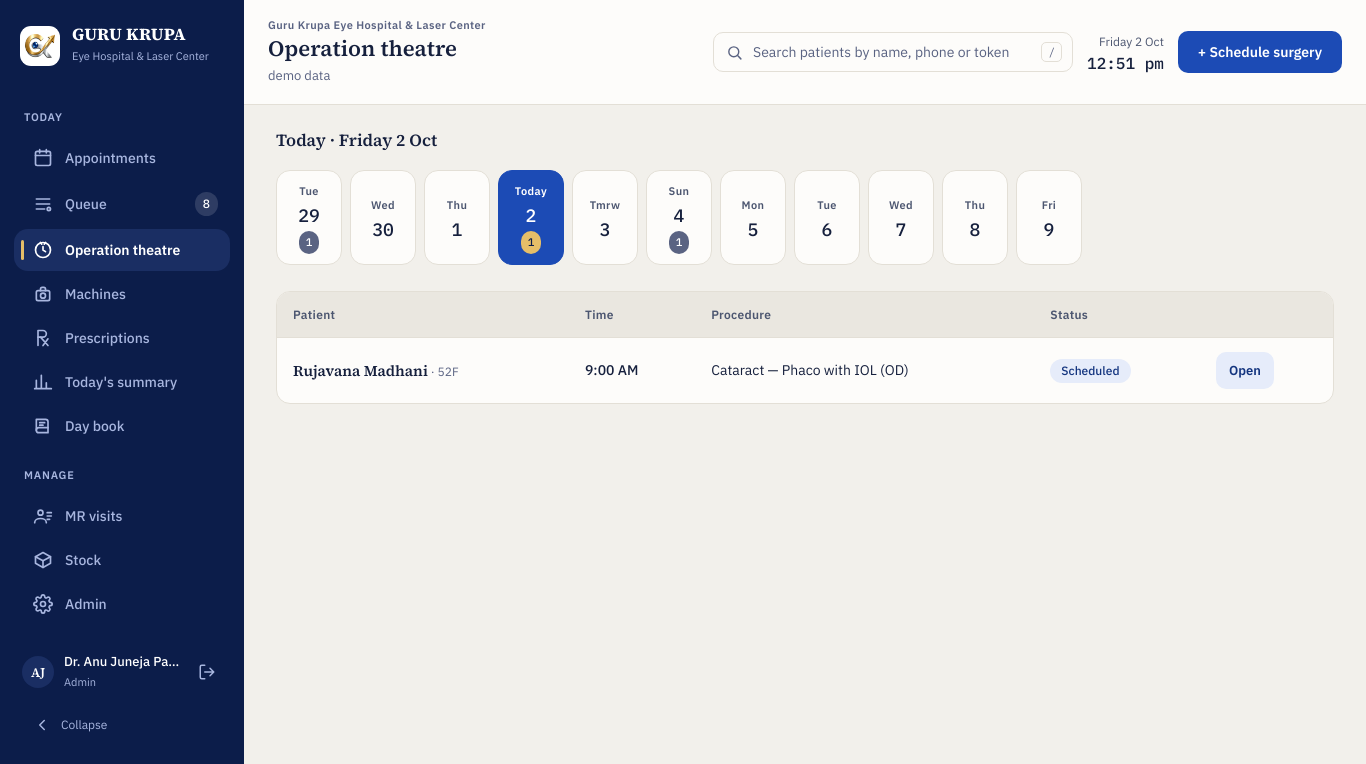
OT screen (F6) › shows today's cases with slot and status, and per-day counts on the strip
Expected: the row with test id "ot-row-1" shows "Rujavana Madhani", [293,360,428,380]
Expected: the row with test id "ot-row-1" shows "9:00 AM", [585,361,638,379]
What coordinates should you click on to do the following:
click the tab "Sun 4 1"
I would click on:
 (679, 218)
Its box is [646,170,712,265].
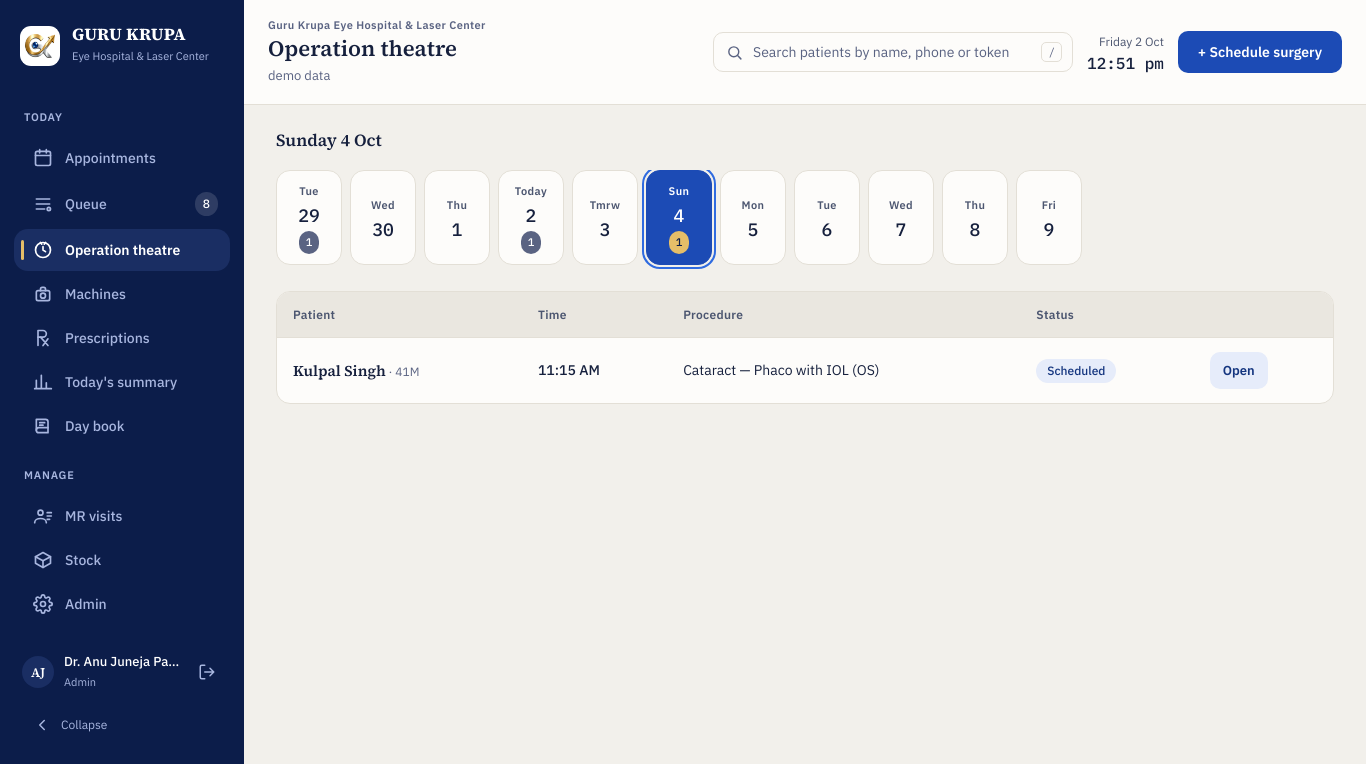
Now the text "Kulpal Singh" is shown, box [293,360,386,380]
